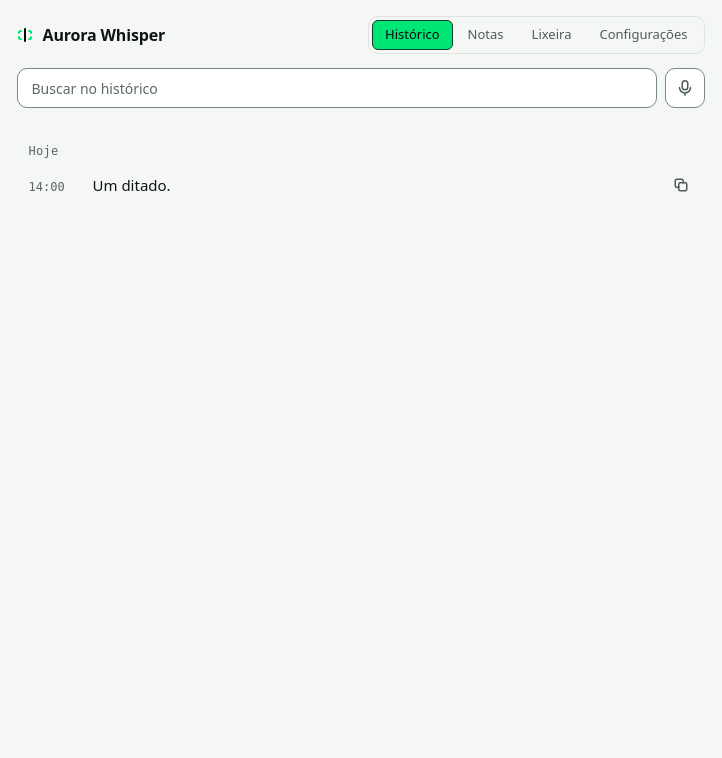
Test: a seção Aprendido › uma linha por troca: a variante vira o termo, na mono, com o Desfazer; o leitor de tela ouve "vira"
The width and height of the screenshot is (722, 758).
Expected: the button "14:00 Um ditado." is shown, top-left (16, 164), bottom-right (704, 206)
Click the button "Configurações" at (644, 35), box top-left (586, 20), bottom-right (700, 50)
(page scrolled)
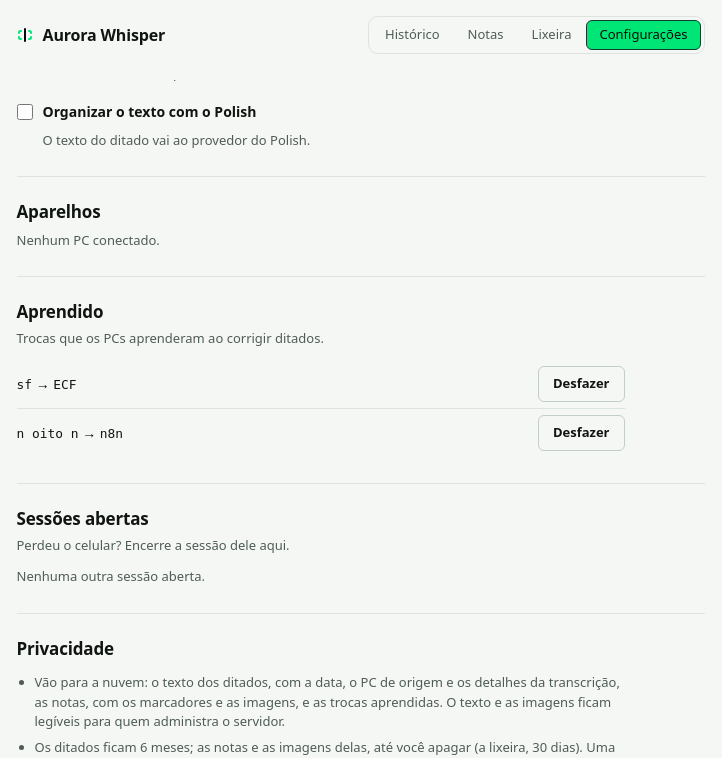
Now the heading "Aprendido" is shown, box top-left (16, 300), bottom-right (103, 323)
Now the text "→" next to "ECF" is shown, box top-left (32, 374), bottom-right (50, 393)
Now the button with aria-label "Desfazer: sf vira ECF" is shown, box top-left (538, 366), bottom-right (624, 402)
